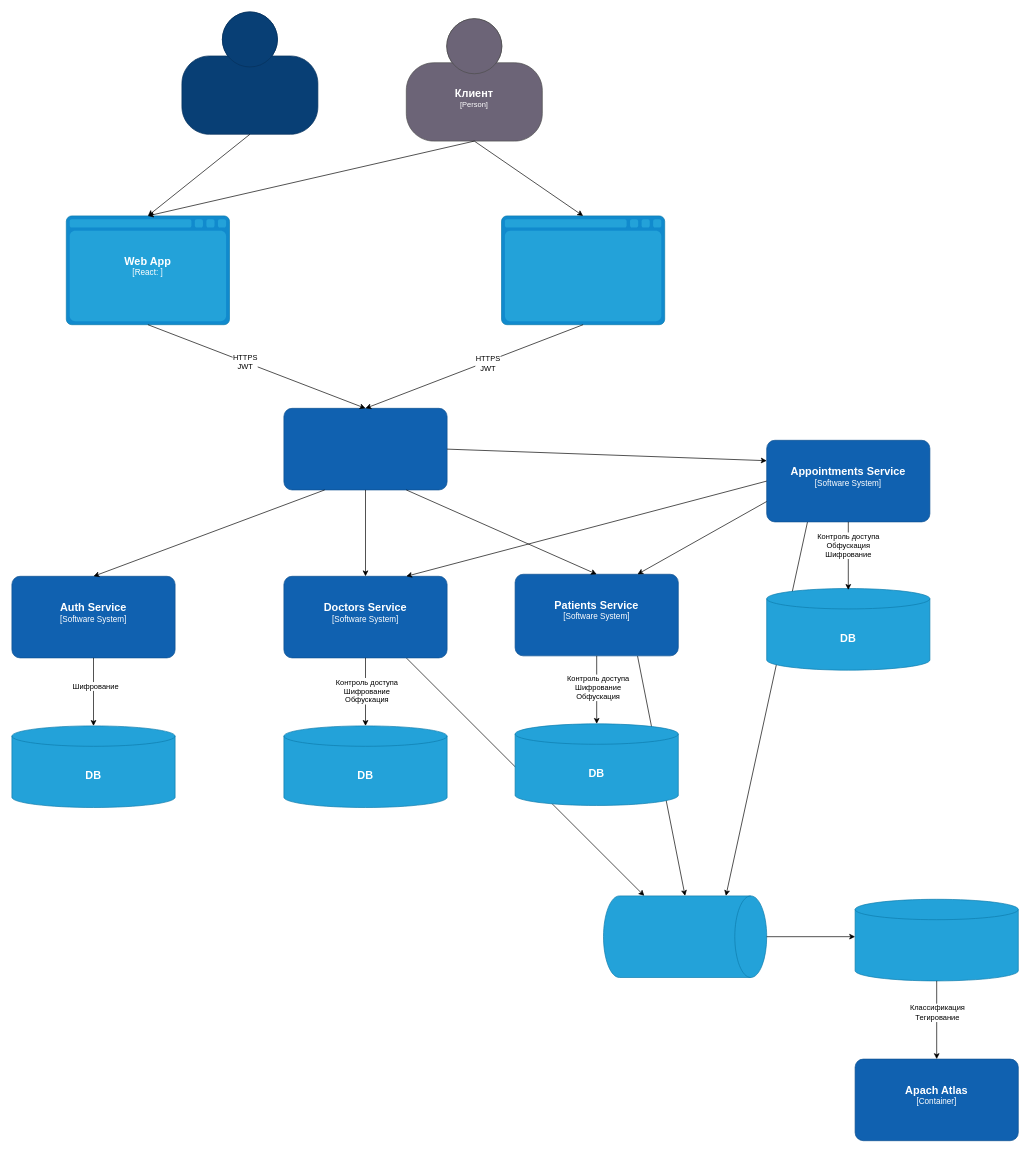
This 1030x1153 diagram has some shape labels left out. The box of each missing label's shape, as (x1, y1, x2, y2) in pixels:
API Gateway [Software System]: (283, 408, 447, 490)
Hadoop [: ] Управление правами, маскирование: (854, 899, 1018, 981)
Kafka [Container: Apache Kafka]: (603, 895, 767, 978)
Mobile App [Android, iOS: ]: (501, 215, 665, 325)
Сотрудник [Person]: (181, 11, 318, 134)
